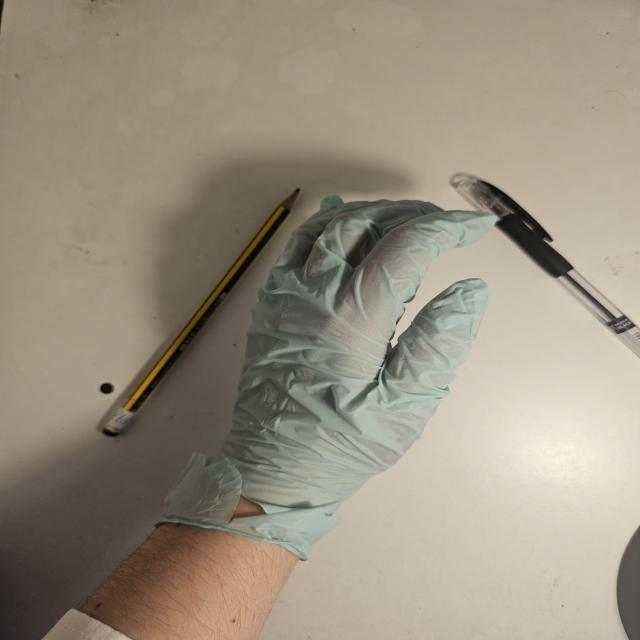gloves_damaged: (145, 191, 500, 568)
